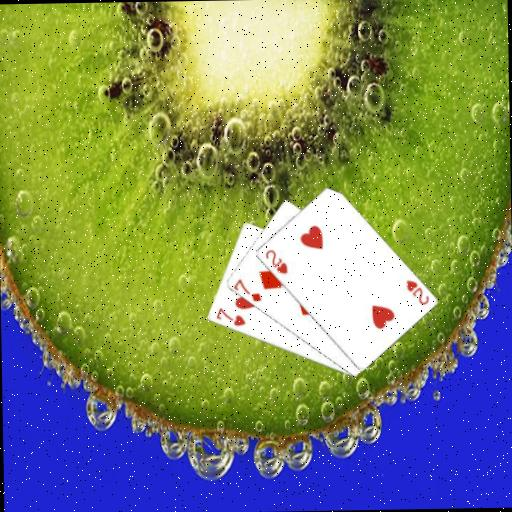2H: (403, 277, 431, 307), (261, 247, 289, 276)
7D: (231, 275, 263, 303)
7H: (213, 304, 247, 328)
